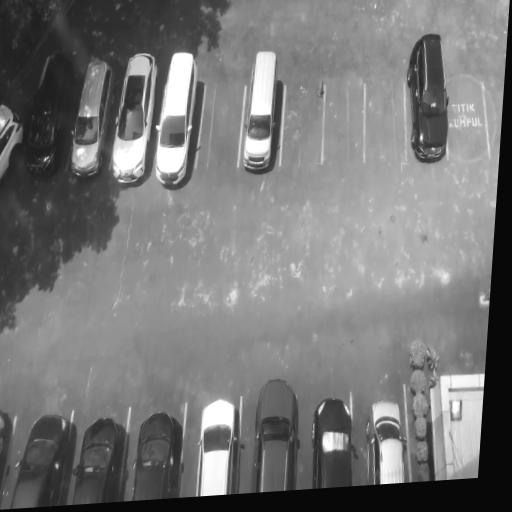Car: (402, 27, 458, 164), (155, 36, 202, 194), (109, 50, 159, 194), (250, 362, 302, 490), (22, 49, 71, 184), (240, 47, 288, 184), (8, 405, 72, 506), (68, 49, 114, 187), (70, 410, 132, 502), (191, 391, 244, 492), (129, 405, 186, 498), (310, 392, 356, 489), (366, 395, 410, 482), (0, 89, 31, 188), (0, 404, 20, 503)
Space Available: (319, 55, 368, 181), (198, 59, 246, 186), (443, 51, 497, 163), (278, 62, 326, 182), (362, 56, 410, 169)
